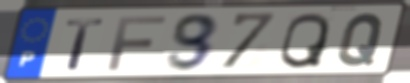7: (219, 11, 279, 72)
9: (164, 12, 223, 74)
F: (105, 14, 170, 72)
Q: (277, 10, 333, 71), (335, 11, 388, 68)
T: (63, 16, 108, 72)
